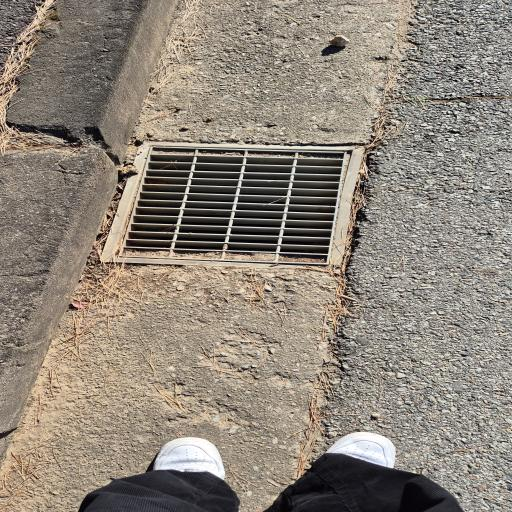drain: (119, 145, 351, 265)
